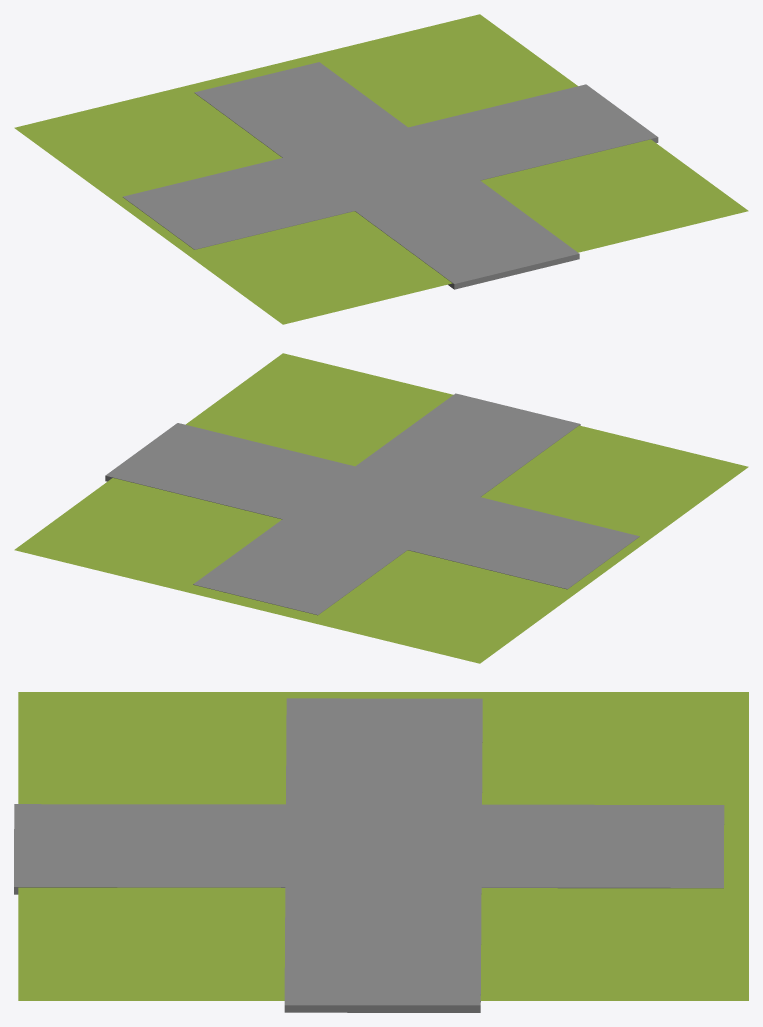
The model's file is road.fbx.
The picture shows the model from 3 angles, top to bottom: view 1: azimuth 30°, elevation 25°; view 2: azimuth 150°, elevation 25°; view 3: azimuth 270°, elevation 25°; orthographic projection. The views are drawn at different scales.
Visible parts, largest first — view 1: Plane001, Line002; view 2: Plane001, Line002; view 3: Plane001, Line002.
Boxes of the visible parts, x1=… form: Plane001: x1=14, y1=14, x2=748, y2=324; Line002: x1=123, y1=62, x2=658, y2=289; Plane001: x1=14, y1=353, x2=748, y2=663; Line002: x1=105, y1=393, x2=639, y2=615; Plane001: x1=18, y1=692, x2=748, y2=1000; Line002: x1=14, y1=698, x2=724, y2=1012.
Size of the model in its own units: 22.64 by 0.2742 by 22.41.
